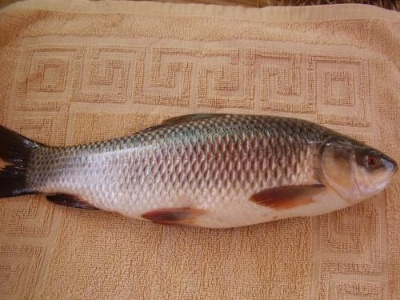rohu: (1, 111, 398, 234)
